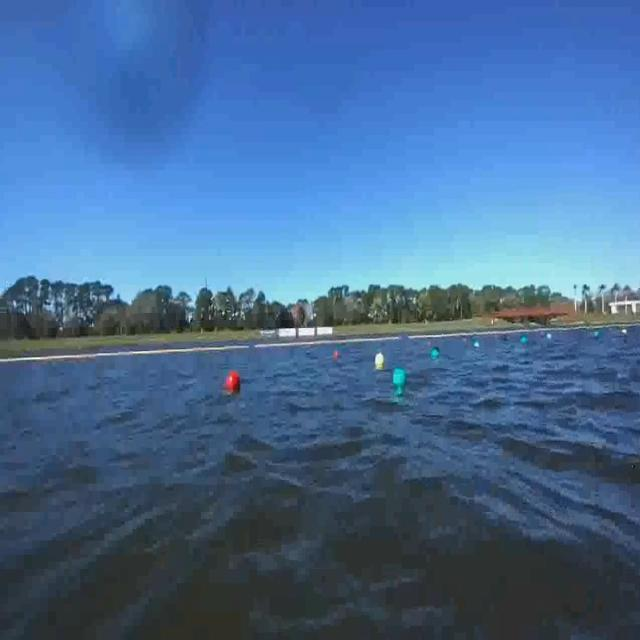green-buoy: (392, 366, 407, 386)
red-buoy: (225, 369, 241, 394)
